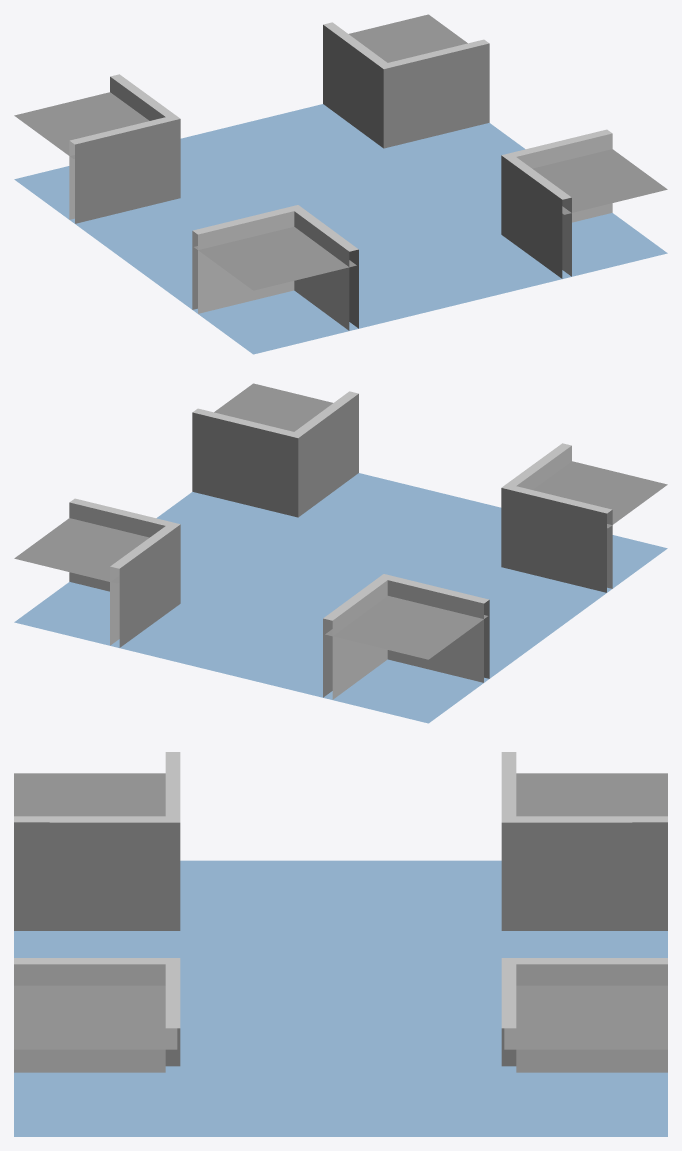
File: road_tile_river_1x1_003.fbx
The picture shows the model from 3 angles, top to bottom: view 1: azimuth 30°, elevation 25°; view 2: azimuth 150°, elevation 25°; view 3: azimuth 270°, elevation 25°; orthographic projection. The views are drawn at different scales.
Visible parts, largest first — view 1: road_tile_river_1x1_003; view 2: road_tile_river_1x1_003; view 3: road_tile_river_1x1_003.
Boxes of the visible parts, x1,y1,x2,y2 form: road_tile_river_1x1_003: (14, 14, 667, 354); road_tile_river_1x1_003: (14, 383, 667, 723); road_tile_river_1x1_003: (14, 752, 667, 1136).
Bounding box in the file's own units: 800 × 146 × 800.
